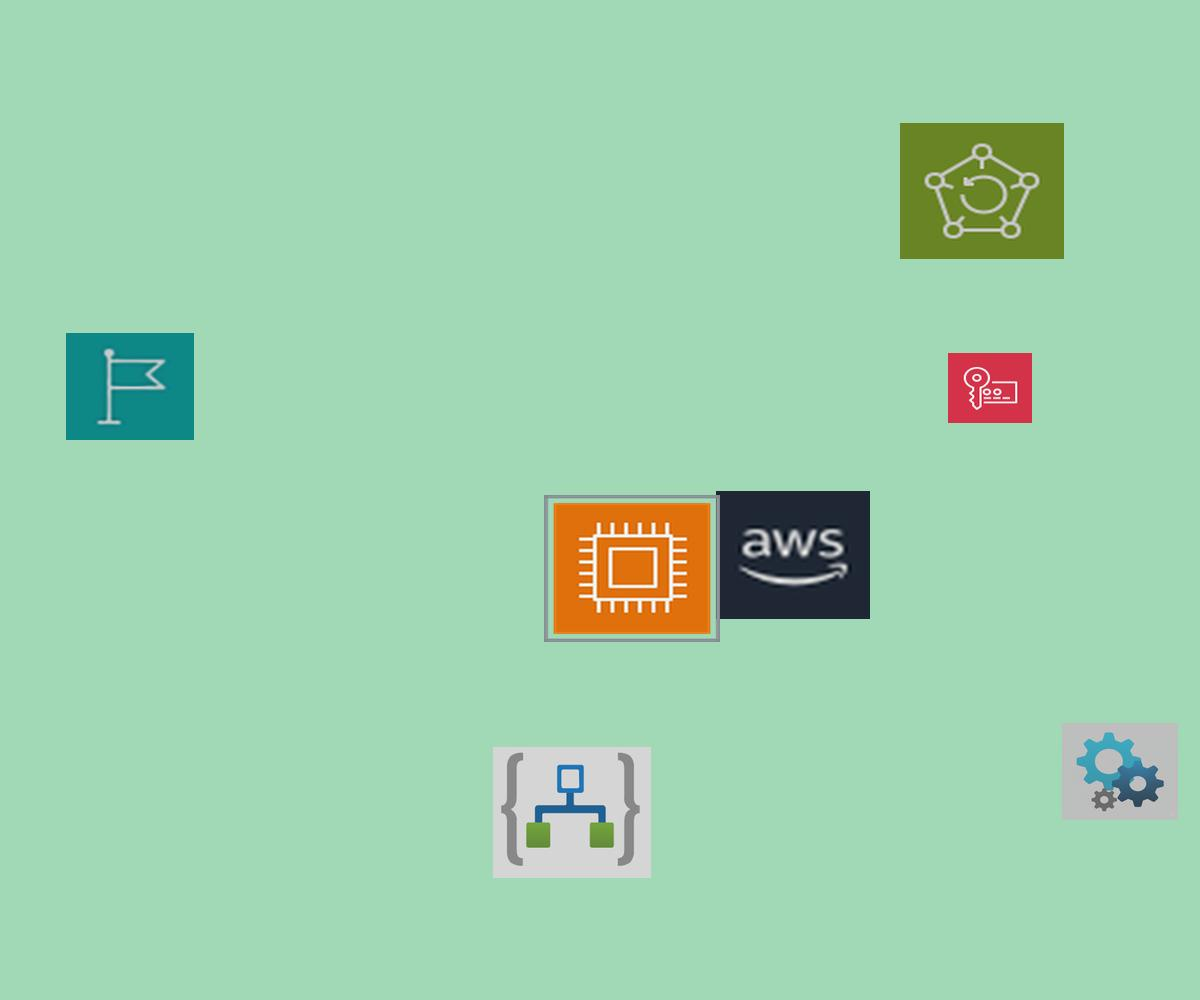AWS-Backup: (900, 123, 1064, 259)
AWS-Category_Compute: (544, 495, 720, 642)
AWS-Cloud-logo: (716, 491, 870, 619)
AWS-Key-Management-Service: (948, 353, 1032, 423)
AWS-Region: (66, 333, 194, 440)
Azure_api: (1062, 723, 1178, 820)
Azure_integration-204-Logic-Apps: (493, 747, 651, 878)
